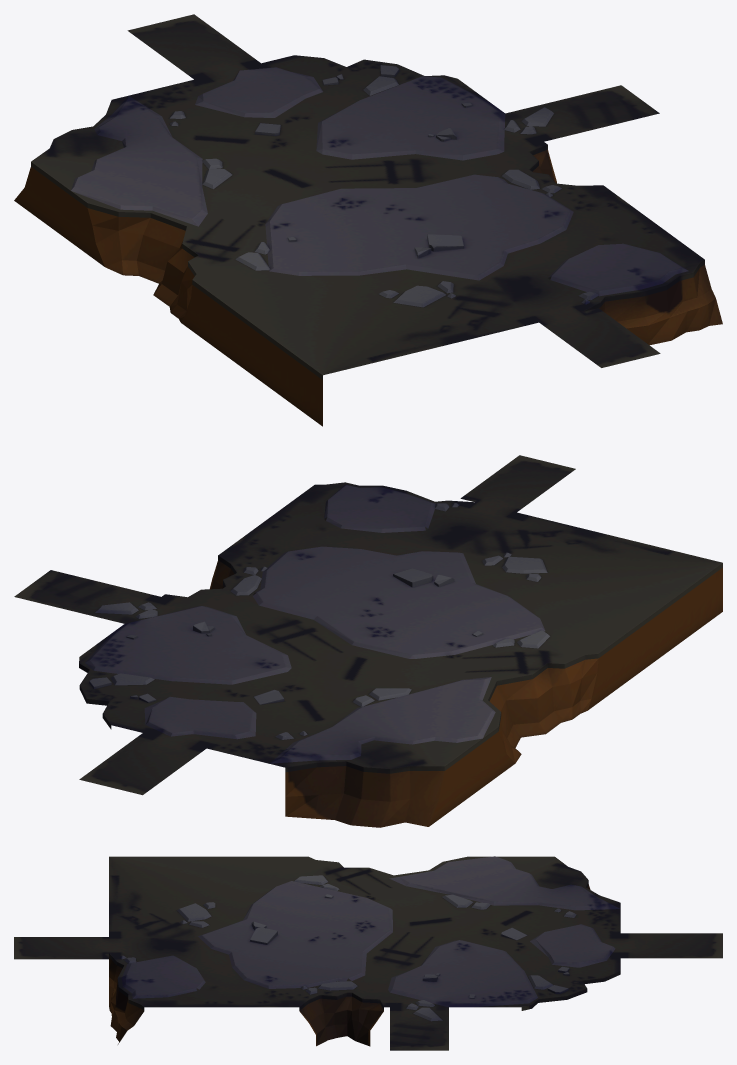
File: Ground_01.FBX
3 views of the same model, one above another, from view 1: azimuth 30°, elevation 25°; view 2: azimuth 150°, elevation 25°; view 3: azimuth 270°, elevation 25° (orthographic). The views are drawn at different scales.
Parts seen in each view (by area): view 1: Ground_01; view 2: Ground_01; view 3: Ground_01.
Part boxes in pixels (bbox=[...]): Ground_01: bbox=[14, 14, 722, 426]; Ground_01: bbox=[14, 455, 722, 827]; Ground_01: bbox=[14, 856, 722, 1050].
Bounding box in the file's own units: 22.4 × 2.44 × 34.57.
